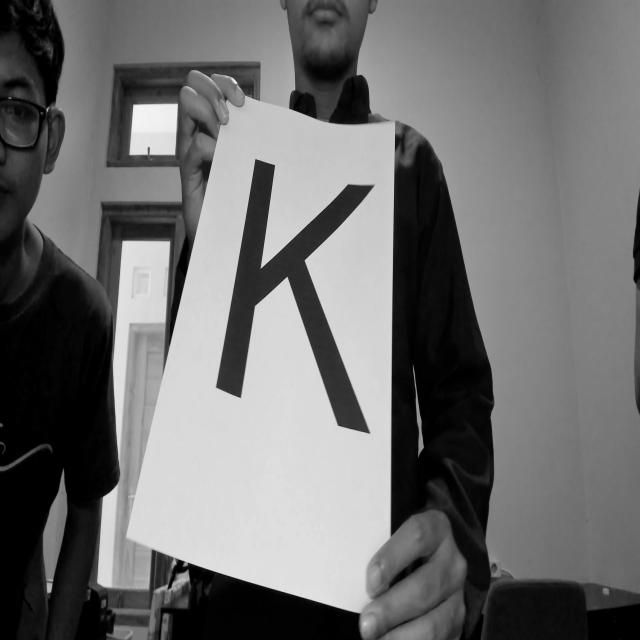k: (212, 142, 388, 454)
